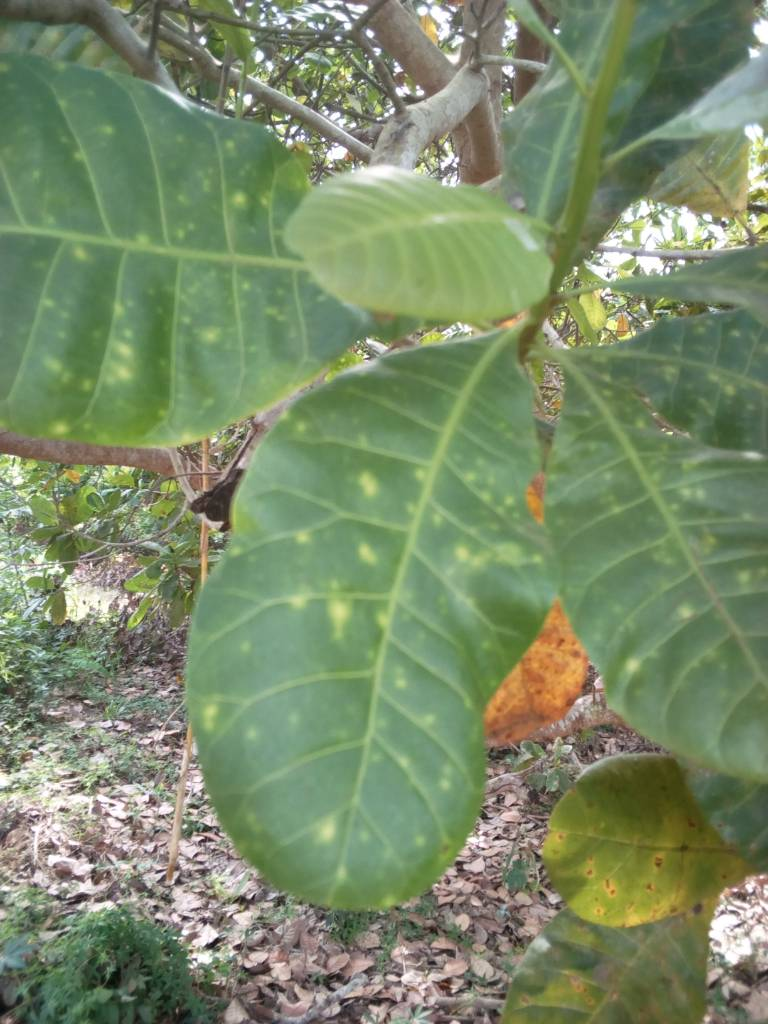Alternariose: (197, 350, 524, 922), (4, 69, 347, 447), (552, 339, 763, 774), (541, 752, 768, 930), (632, 310, 766, 444)
